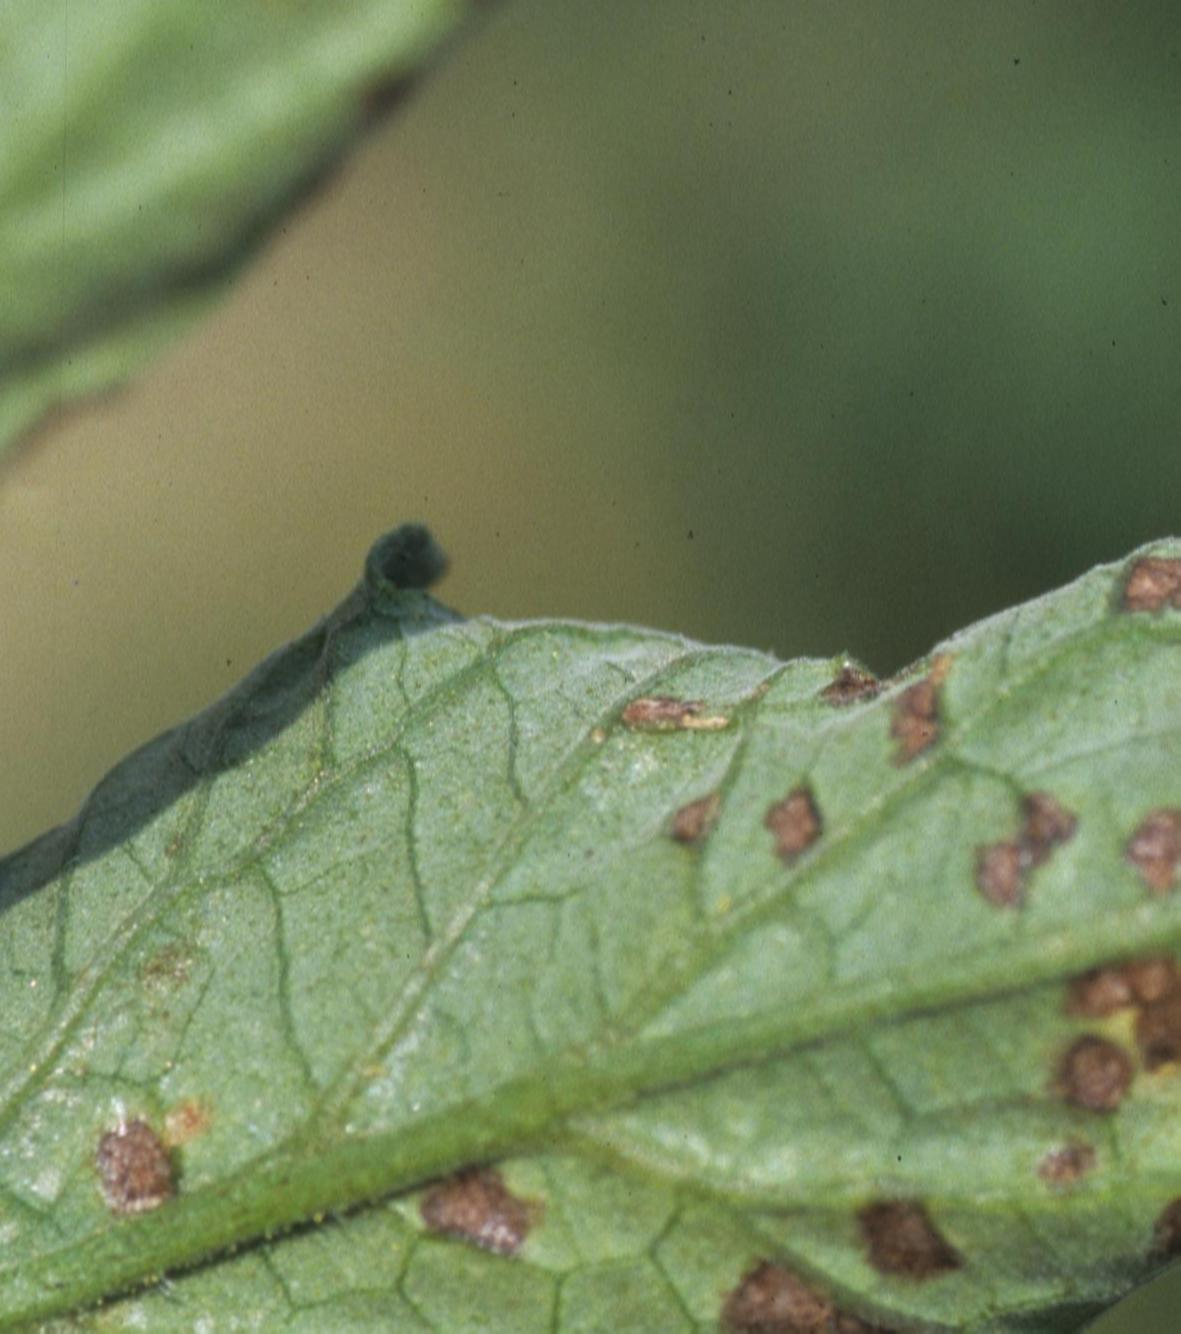Tomato leaf bacterial spot: (0, 422, 1181, 1334)
